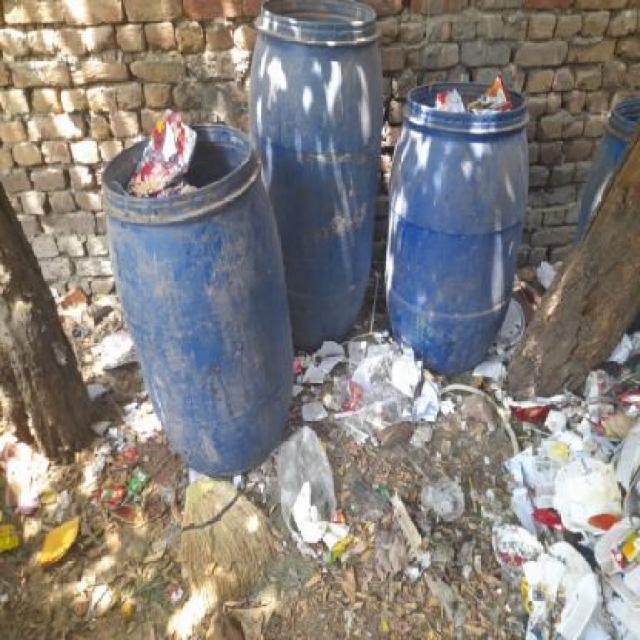garbage: (1, 415, 640, 639), (106, 83, 520, 224), (289, 316, 524, 410), (51, 280, 144, 394)
